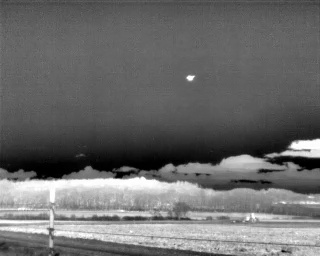DRONE: (183, 71, 199, 85)
